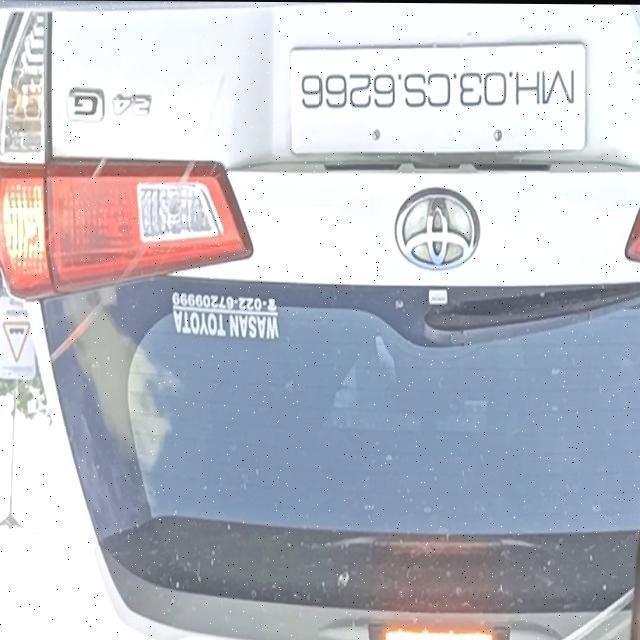plate: (289, 41, 588, 159)
